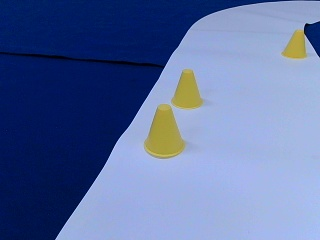cone: (145, 106, 185, 157), (172, 70, 203, 108), (281, 30, 306, 58)
